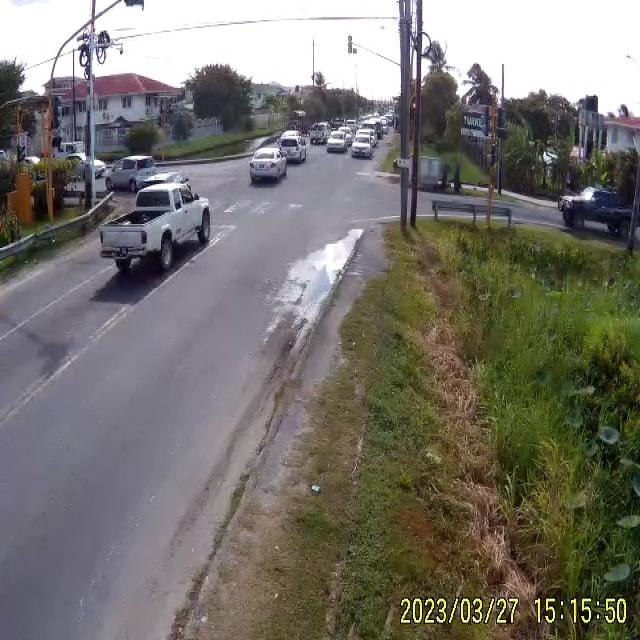car: (99, 179, 212, 272), (561, 189, 634, 236), (108, 156, 159, 193), (250, 147, 288, 186), (280, 130, 308, 163), (352, 135, 376, 159), (326, 132, 349, 156), (309, 121, 330, 144)
